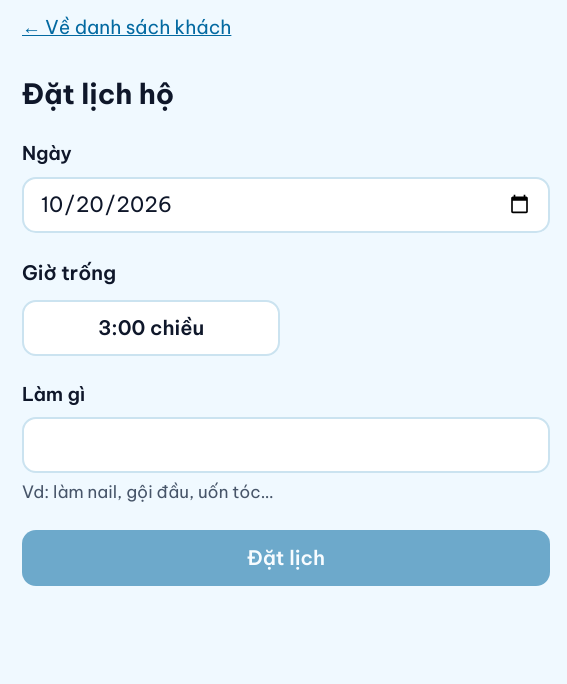
Scenario: BookForCustomer › 5. POST 201: hiện 'Đã đặt lịch' bằng chữ — không chỉ đổi màu
Click the button "3:00 chiều". click: (151, 328)
box: 22,300 -> 280,356
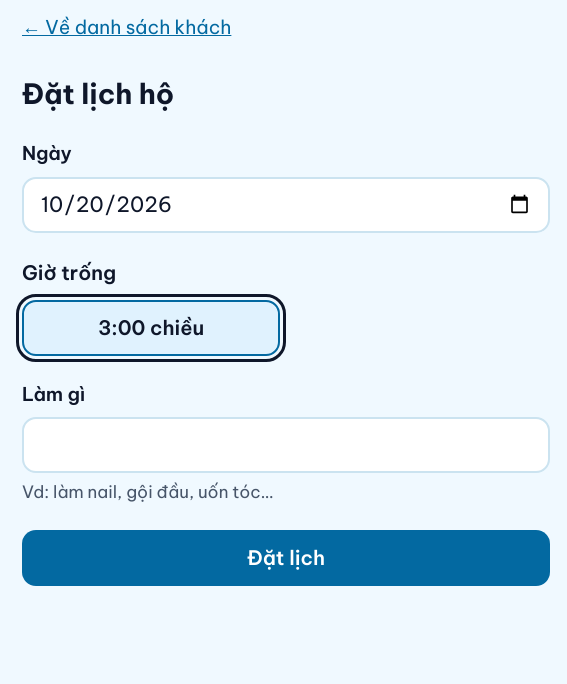
Click the button "Đặt lịch". click: (286, 558)
box: 22,530 -> 550,586
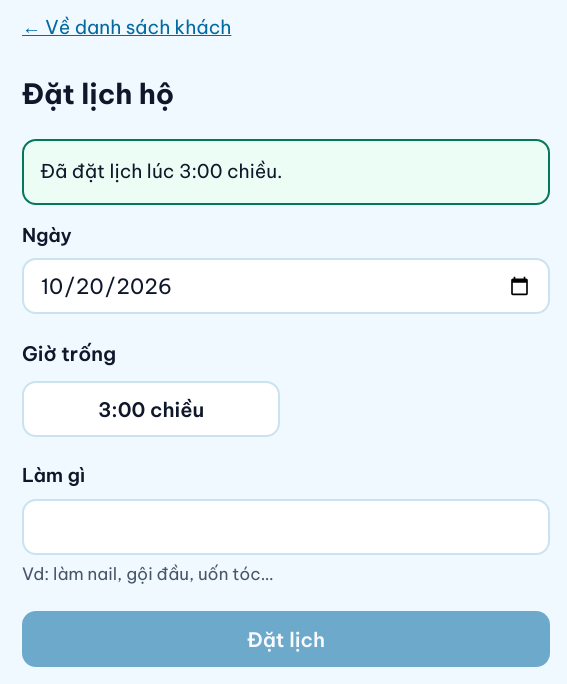
Now the text "Đã đặt lịch lúc 3:00 chiều." is shown, box 22,139 -> 550,205
